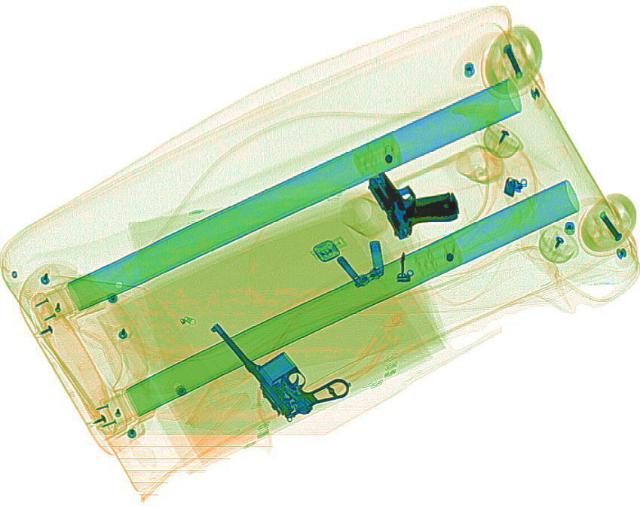Gun: (202, 293, 358, 424), (360, 153, 466, 239)
